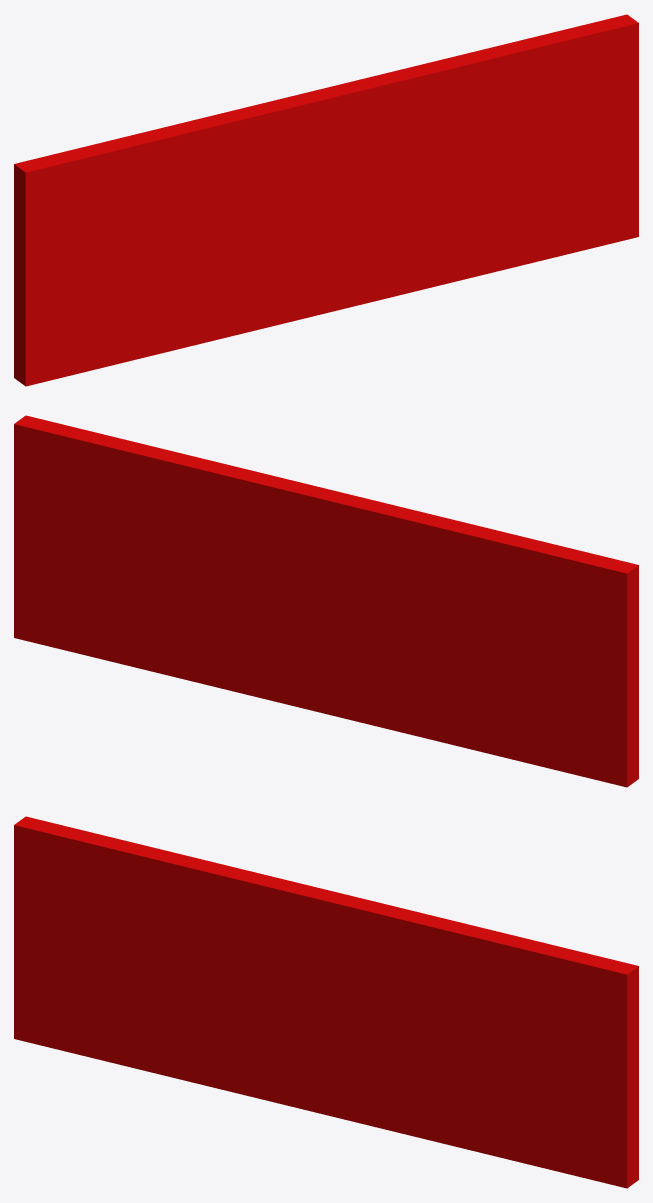
File: Instanced.gltf
3 renders of one model, top to bottom at view 1: azimuth 30°, elevation 25°; view 2: azimuth 150°, elevation 25°; view 3: azimuth 330°, elevation 25°, orthographic.
Parts seen in each view (by area): view 1: parte 270, parte 0, parte 60, parte 120, parte 150, parte 210, parte 295, parte 279, parte 90, parte 240, parte 30, parte 180 (+27 smaller); view 2: parte 270, parte 0, parte 60, parte 120, parte 150, parte 210, parte 295, parte 279, parte 90, parte 240, parte 30, parte 180 (+27 smaller); view 3: parte 299, parte 29, parte 89, parte 149, parte 179, parte 239, parte 274, parte 290, parte 119, parte 269, parte 59, parte 209 (+27 smaller).
Boxes of the visible parts, x1,y1,x2,y2 form: parte 270: [14, 159, 46, 193]; parte 0: [14, 357, 46, 386]; parte 60: [14, 314, 46, 343]; parte 120: [14, 271, 46, 300]; parte 150: [14, 250, 46, 279]; parte 210: [14, 207, 46, 236]; parte 295: [525, 34, 557, 69]; parte 279: [198, 114, 230, 148]; parte 90: [14, 292, 46, 322]; parte 240: [14, 185, 46, 215]; parte 30: [14, 335, 46, 364]; parte 180: [14, 228, 46, 257]; parte 270: [606, 560, 638, 594]; parte 0: [606, 758, 638, 787]; parte 60: [606, 715, 638, 744]; parte 120: [606, 672, 638, 701]; parte 150: [606, 651, 638, 680]; parte 210: [606, 608, 638, 637]; parte 295: [95, 435, 127, 470]; parte 279: [422, 515, 454, 549]; parte 90: [606, 693, 638, 723]; parte 240: [606, 586, 638, 616]; parte 30: [606, 736, 638, 765]; parte 180: [606, 629, 638, 658]; parte 299: [606, 961, 638, 995]; parte 29: [606, 1159, 638, 1188]; parte 89: [606, 1116, 638, 1145]; parte 149: [606, 1073, 638, 1102]; parte 179: [606, 1052, 638, 1081]; parte 239: [606, 1009, 638, 1038]; parte 274: [95, 836, 127, 871]; parte 290: [422, 916, 454, 950]; parte 119: [606, 1094, 638, 1124]; parte 269: [606, 987, 638, 1017]; parte 59: [606, 1137, 638, 1166]; parte 209: [606, 1030, 638, 1059].
Bounding box in the file's own units: 30 × 10 × 1.
